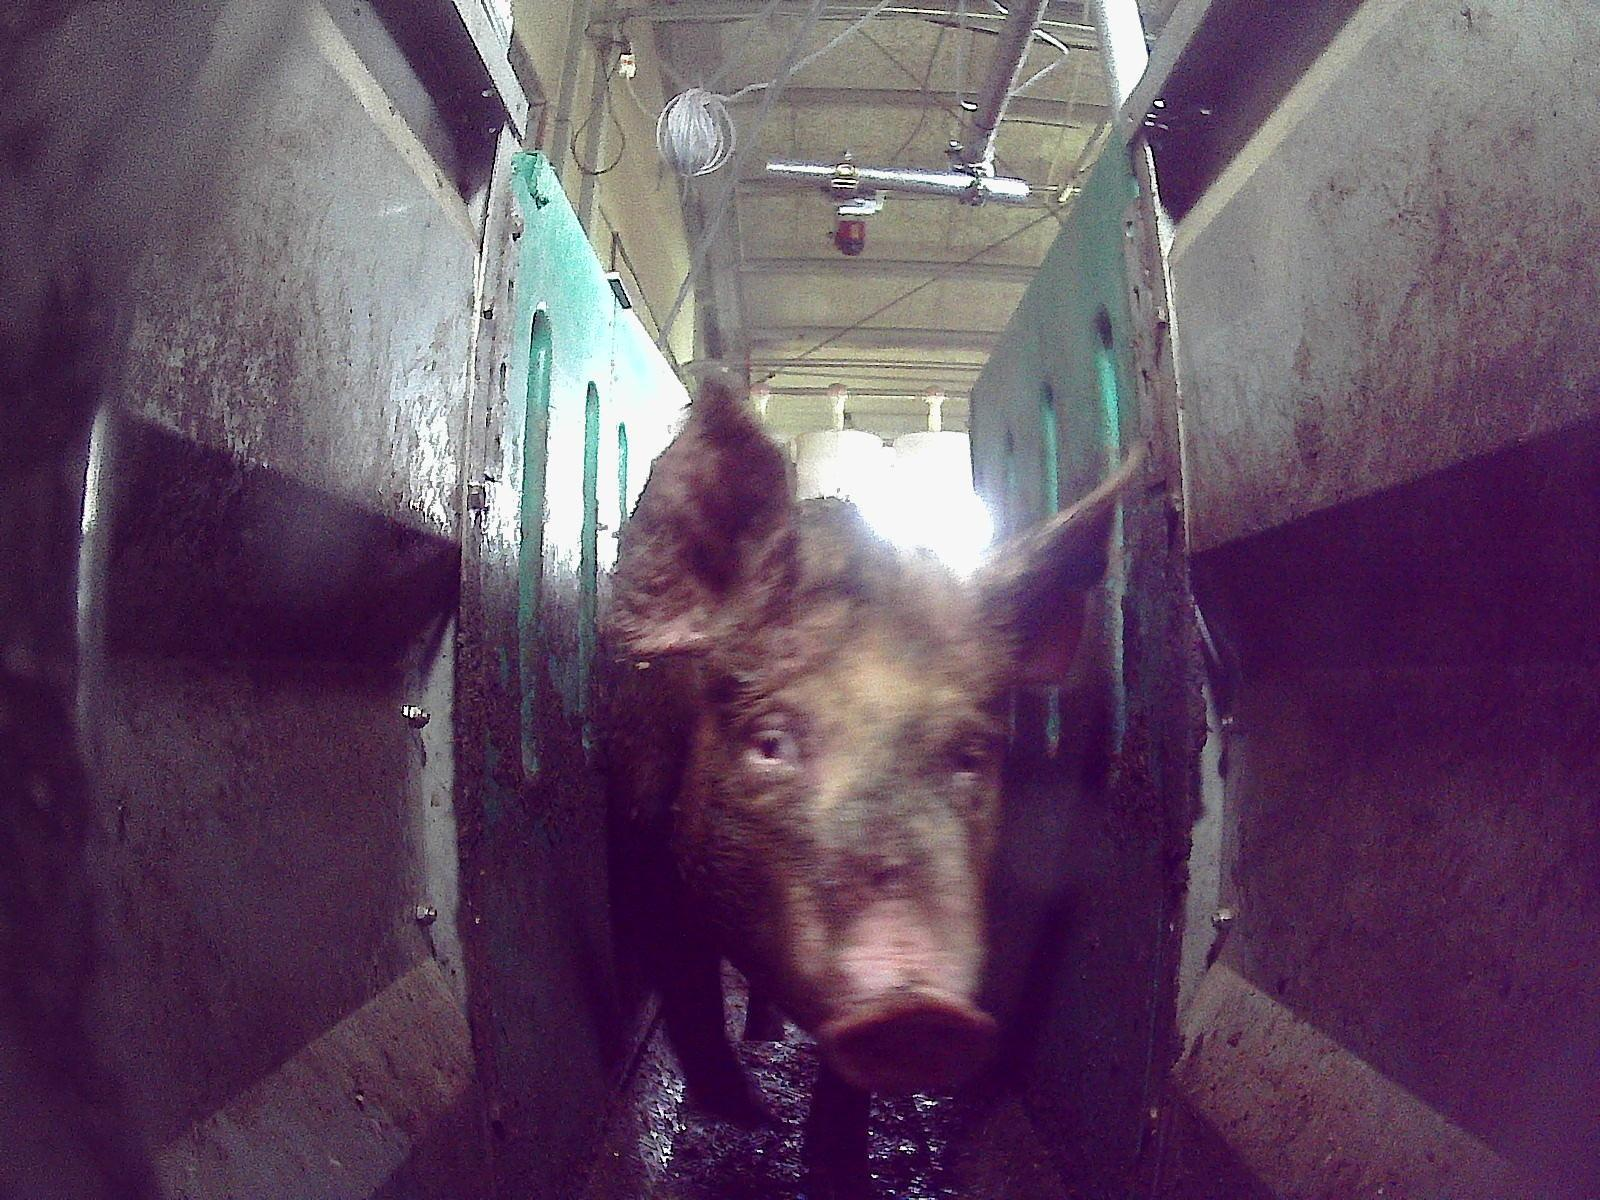Face: (684, 590, 1002, 1096)
